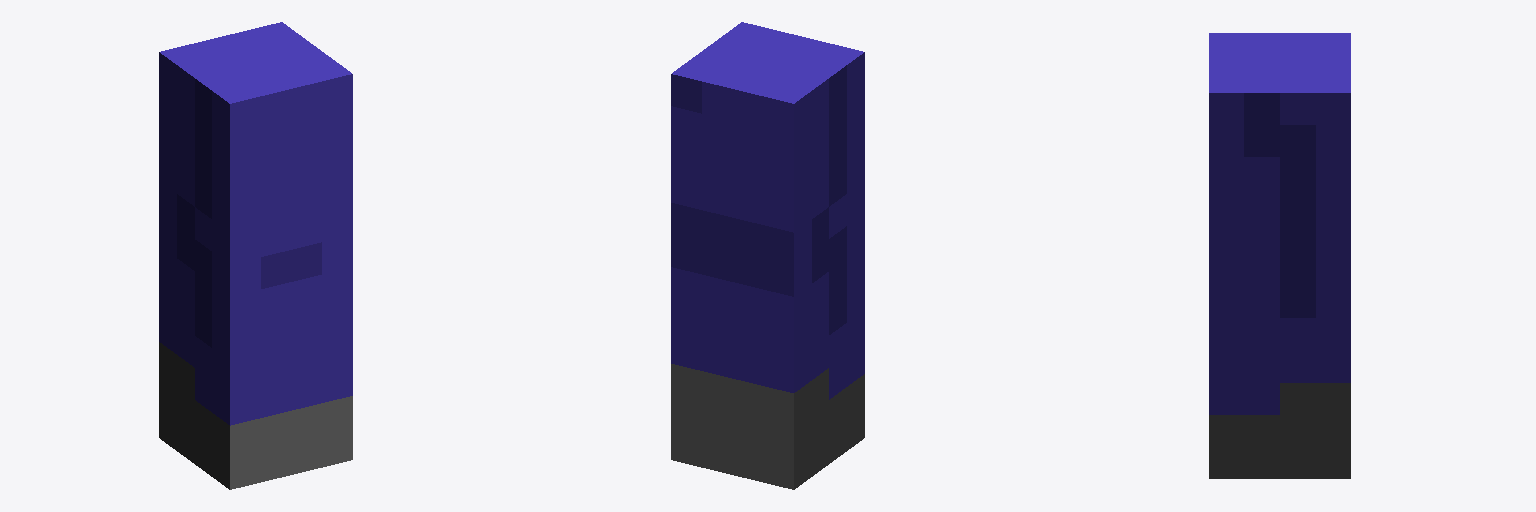
3 renders of one model, left to right at view 1: azimuth 30°, elevation 25°; view 2: azimuth 150°, elevation 25°; view 3: azimuth 270°, elevation 25°, orthographic.
Parts seen in each view (by area): view 1: Cube.004; view 2: Cube.004; view 3: Cube.004.
Boxes of the visible parts, box(x1,y1,x2,y2) form: Cube.004: box(159, 22, 352, 489); Cube.004: box(671, 22, 864, 489); Cube.004: box(1209, 33, 1350, 478).
Size of the model in its own units: 0.25 by 0.75 by 0.25.
1 materials, 1 textured.